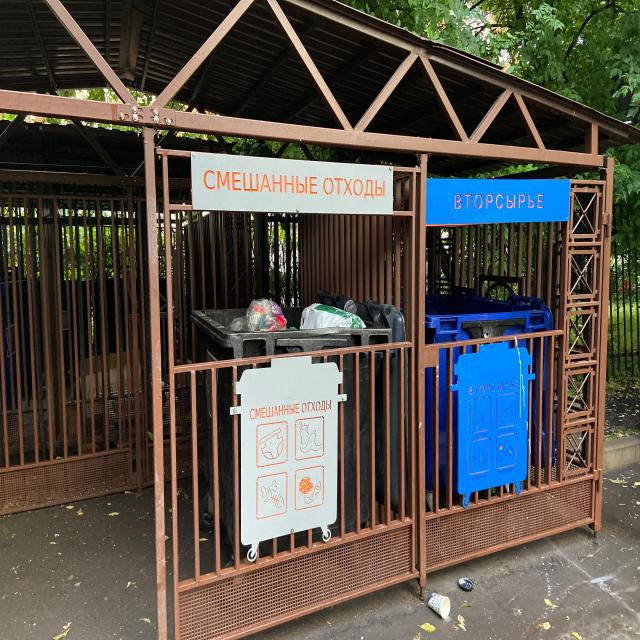bin: (196, 315, 376, 541), (424, 298, 555, 480)
plastic: (210, 296, 368, 331)
